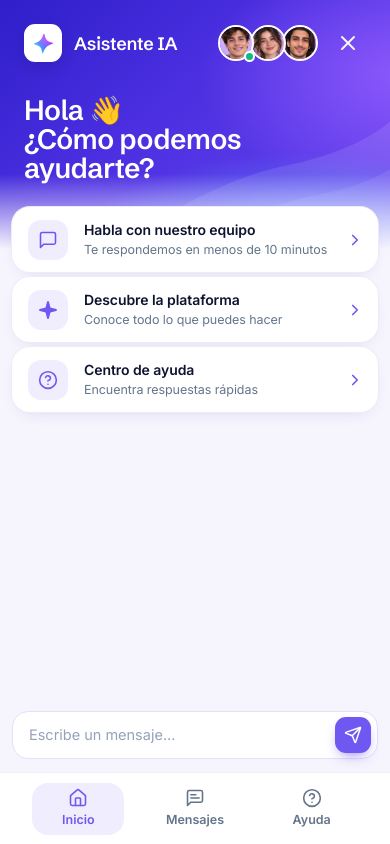
Conversación — modos según haya sesión › con sesión: saludo con su nombre, Modo edición y analíticas en el menú, y sin emojis
Click the button "Mensajes": x=195, y=809 [149,783,241,835]
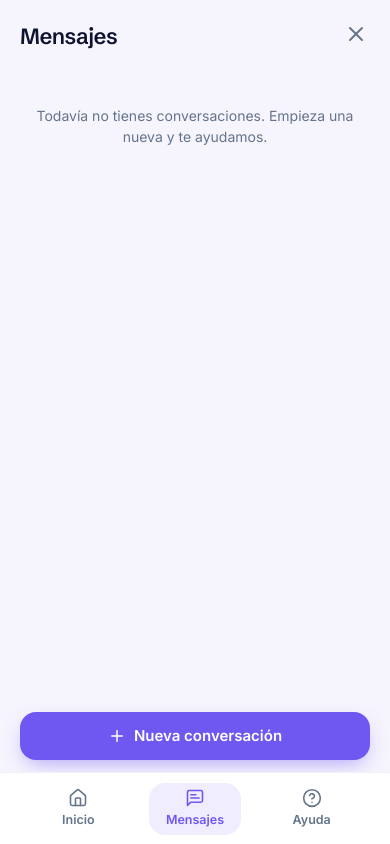
Click the button "Nueva conversación": x=195, y=736 [20,712,370,760]
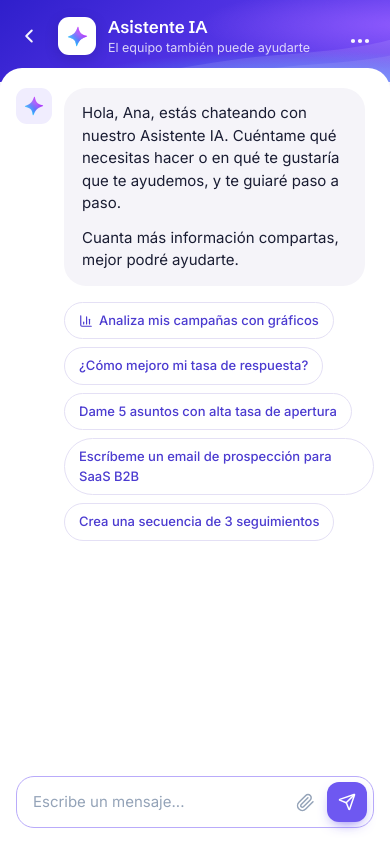
Expected: the text "Hola, Ana, estás chateando con nuestro Asistente IA" is shown, [82,102,347,215]
Expected: the button "Analiza mis campañas con gráficos" is shown, [64,302,334,339]
Expected: the button named "Adjuntar imagen" is shown, [288,784,323,820]
Click the button named "Más opciones": x=360, y=41 [342,23,378,59]
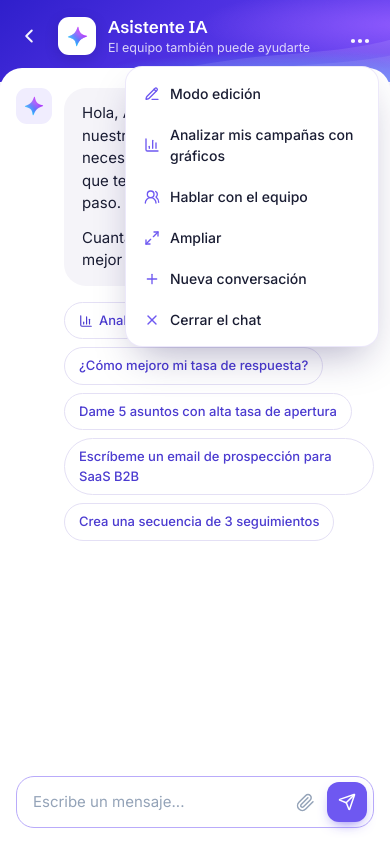
Expected: the menu named "Opciones del chat" shows "Modo edición"
Expected: the menu named "Opciones del chat" shows "Analizar mis campañas con gráficos", [132,114,372,176]
Click the menu item "Modo edición": x=252, y=94 [132,73,372,114]
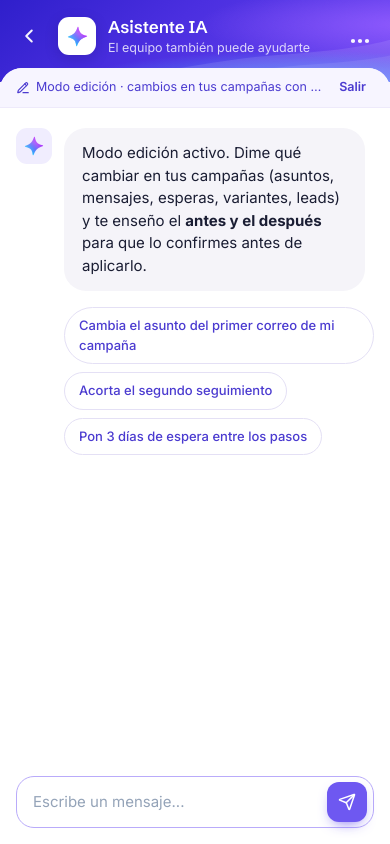
Expected: the text "Modo edición · cambios en tus campañas con confirmación" is shown, [36,78,323,97]
Click the button "Salir": x=353, y=88 [331,76,374,99]
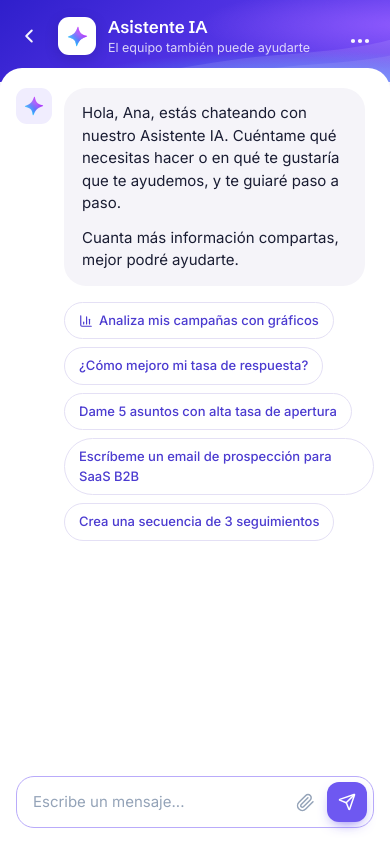
Expected: the text "Modo edición · cambios en tus campañas con confirmación" is gone
